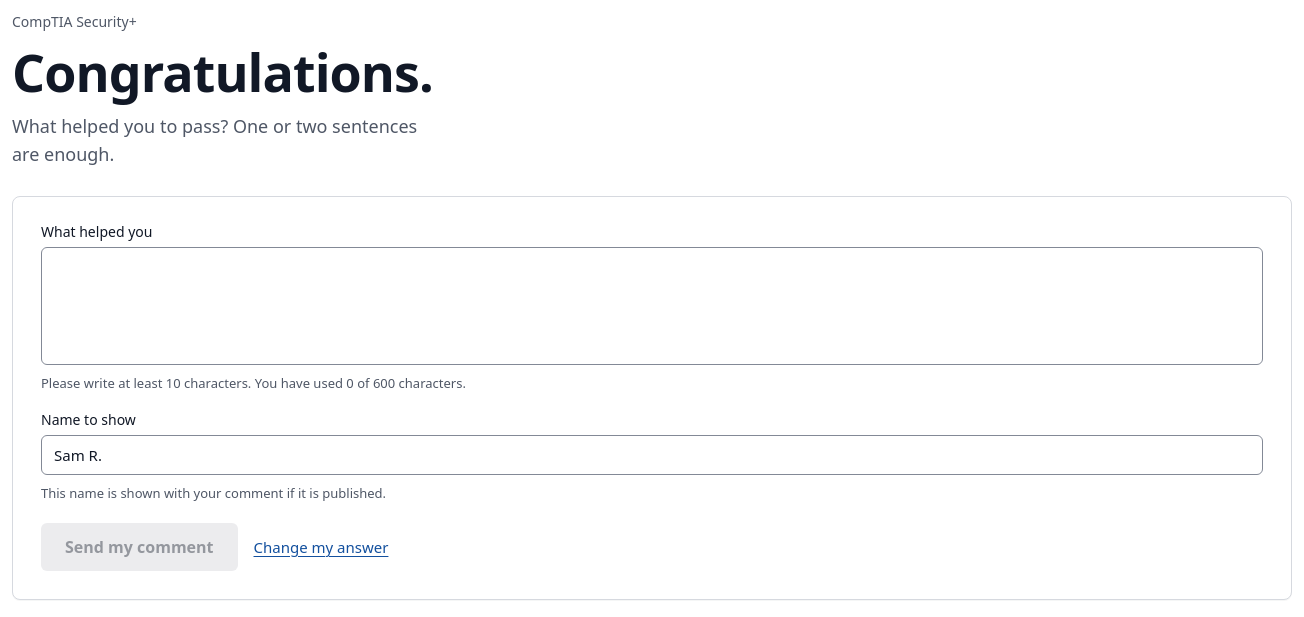
Test: the question › lets the answer be changed, and returns the focus to the question
Click the button "Change my answer" at (321, 547), box x1=254 y1=535 x2=388 y2=559
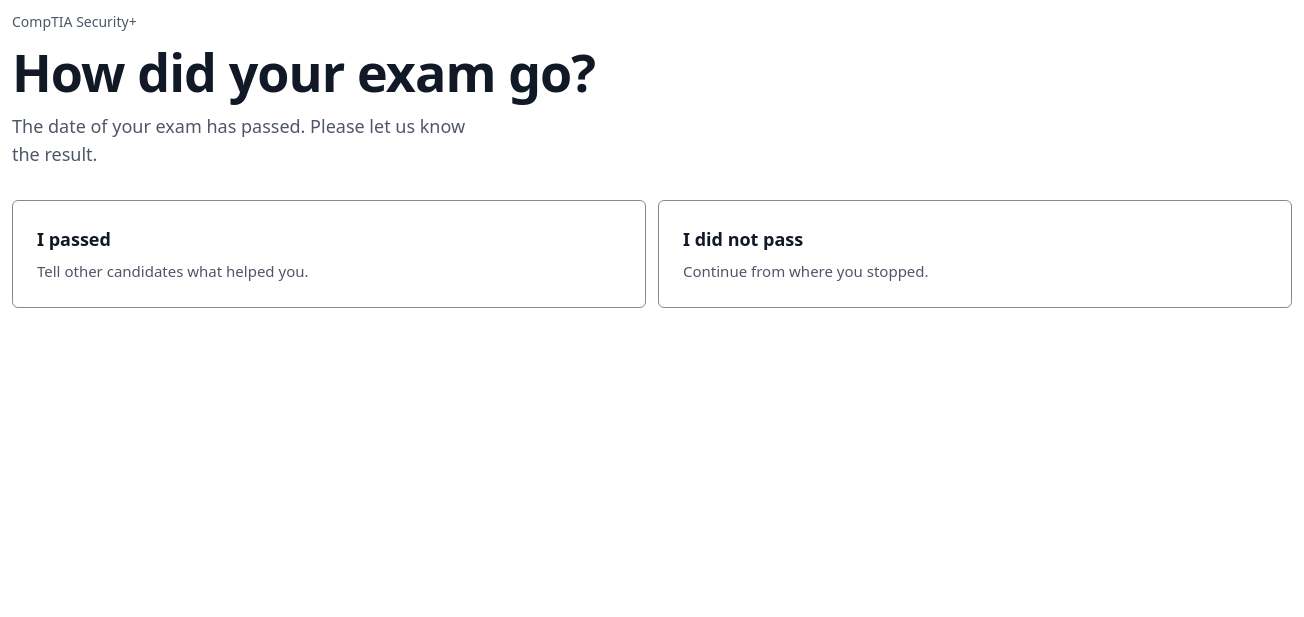
Check: the heading reads "How did your exam go?", box x1=12 y1=36 x2=595 y2=107
